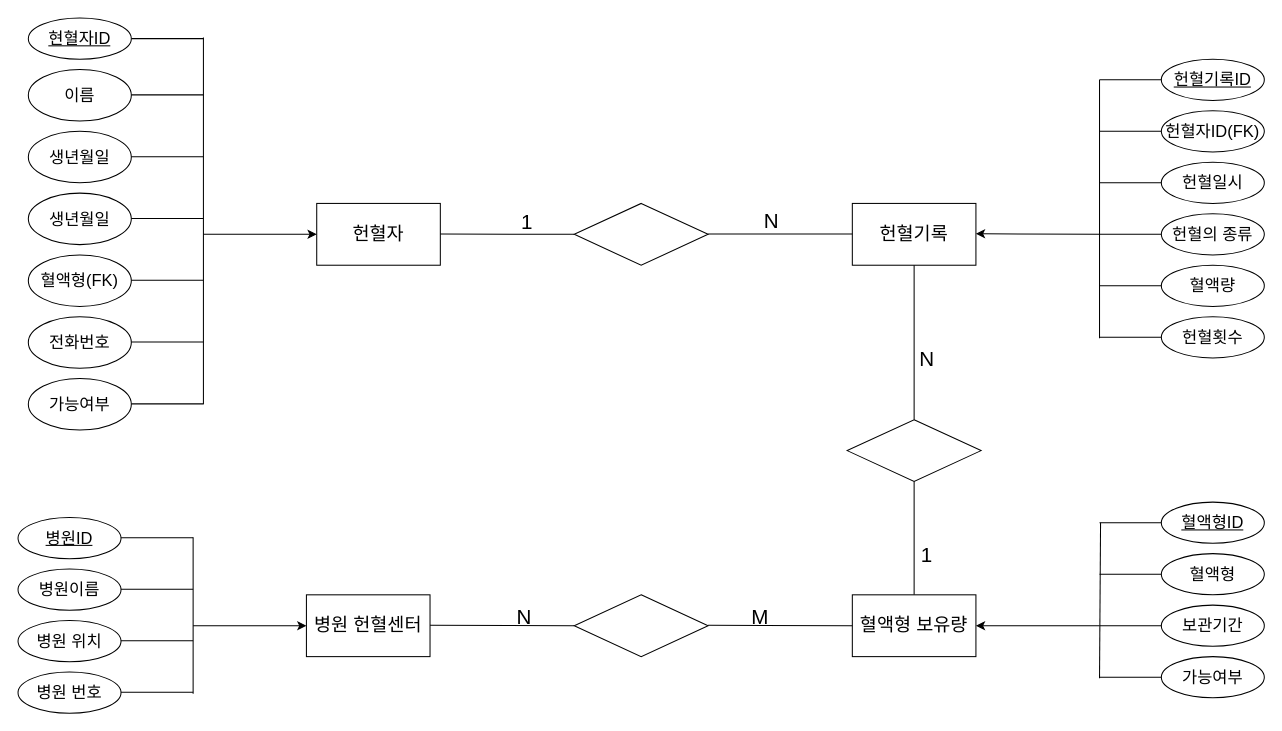
Image size: 1282x731. Some labels were removed from this diagram. The shapes that lost their labels are listed below. From the top down, each one's box as (x1, y1, x2, y2) in pixels, then its label:
(573, 202, 708, 265): 헌혈
(846, 419, 981, 482): 저장
(573, 594, 708, 657): 재고
